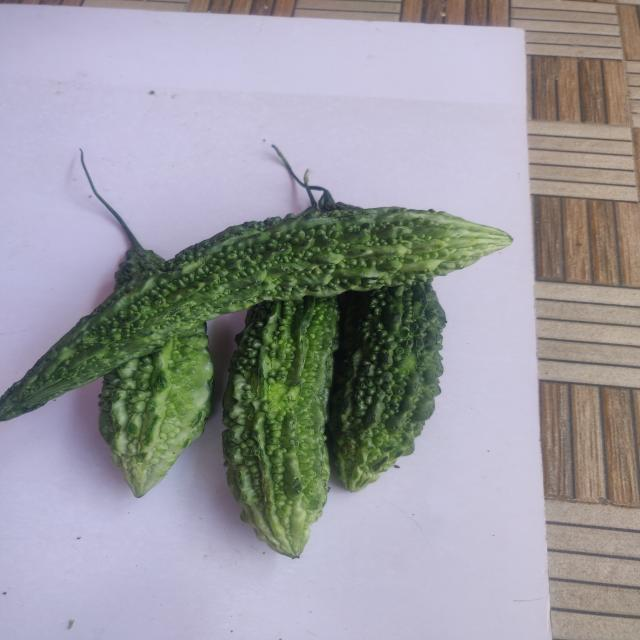Bitter Gourd: (1, 193, 512, 420), (222, 297, 339, 559), (328, 281, 446, 492)
